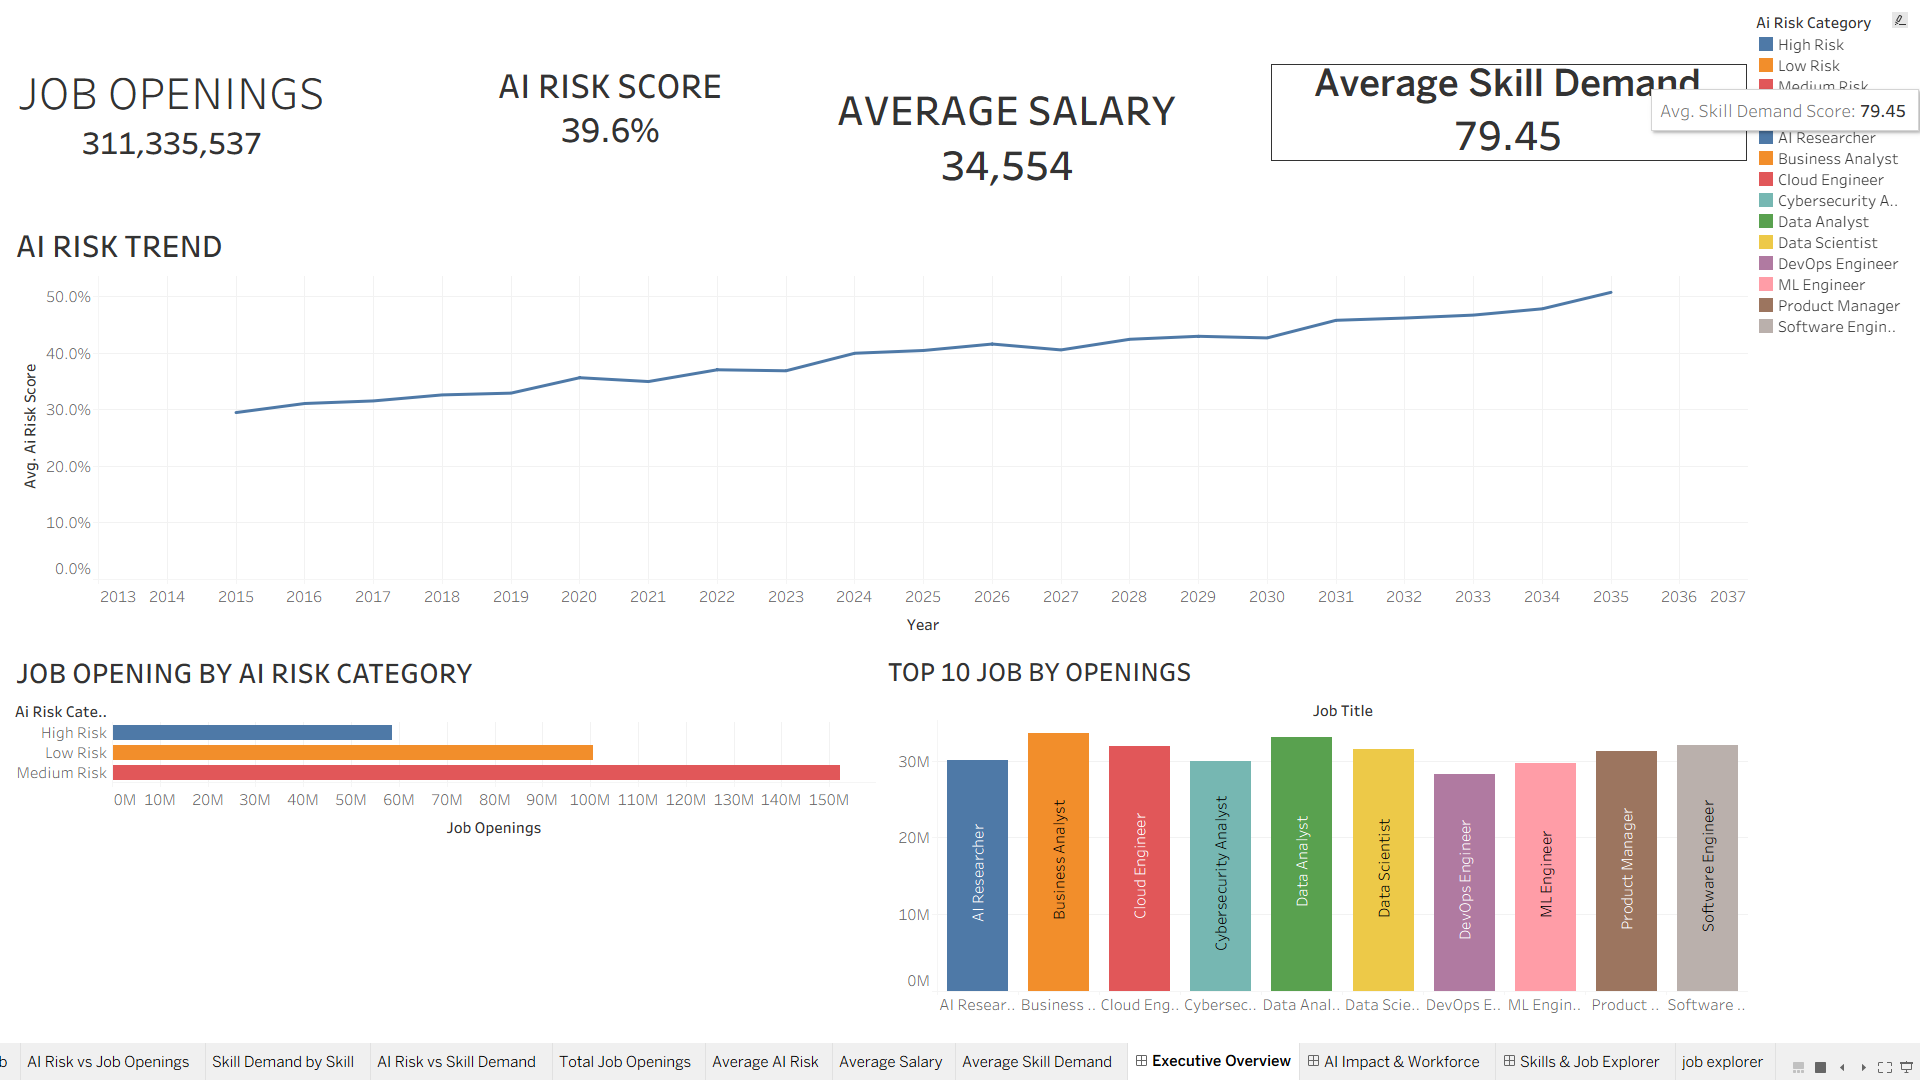

The dashboard page shown, as its layout file describes it:
{"tool":"tableau","page":{"name":"Executive Overview","canvas":[1000,1000],"units":"permille","ordinal":1},"visuals":[{"type":"worksheet","title":"Total Job Openings","mark":"Automatic","box":[4.8,9.3,200.1,198.6]},{"type":"worksheet","title":"Average AI Risk","mark":"Automatic","box":[204.9,9.3,217.6,198.6]},{"type":"worksheet","title":"Average Salary","mark":"Automatic","box":[422.5,9.3,226.7,198.6]},{"type":"worksheet","title":"Average Skill Demand","mark":"Automatic","box":[649.2,9.3,249.6,198.6]},{"type":"legend","title":"Job Openings by AI Risk Category","param":"[federated.0rj32n00e697yh0zkaz7m0jumep6].[none:ai_risk_category:nk]","box":[898.7,9.3,96.4,108]},{"type":"legend","title":"Top 10 Jobs by Openings","param":"[federated.0rj32n00e697yh0zkaz7m0jumep6].[none:job_title:nk]","box":[898.7,117.3,96.4,278.7]},{"type":"worksheet","title":"ai risk trend","mark":"Line","rows":["ai_risk_score"],"cols":["year"],"box":[4.8,207.9,893.9,411.2]},{"type":"worksheet","title":"Job Openings by AI Risk Category","mark":"Bar","rows":["ai_risk_category"],"cols":["job_openings"],"box":[4.8,619.1,447,371.7]},{"type":"worksheet","title":"Top 10 Jobs by Openings","mark":"Automatic","rows":["job_openings"],"cols":["job_title"],"box":[451.8,619.1,447,371.7]}]}

Visuals, with their boxes on the dashboard's canvas, which has no fixed pixel size, in thousandths of its width and height (x1, y1, x2, y2). These are canvas units, not pixel positions in the 1920x1080 screenshot, which may show the page scaled, cropped or inside an application window:
"Total Job Openings" worksheet: Rect(5, 9, 205, 208)
"Average AI Risk" worksheet: Rect(205, 9, 422, 208)
"Average Salary" worksheet: Rect(422, 9, 649, 208)
"Average Skill Demand" worksheet: Rect(649, 9, 899, 208)
"Job Openings by AI Risk Category" legend: Rect(899, 9, 995, 117)
"Top 10 Jobs by Openings" legend: Rect(899, 117, 995, 396)
"ai risk trend" worksheet (Line marks): Rect(5, 208, 899, 619)
"Job Openings by AI Risk Category" worksheet (Bar marks): Rect(5, 619, 452, 991)
"Top 10 Jobs by Openings" worksheet: Rect(452, 619, 899, 991)
